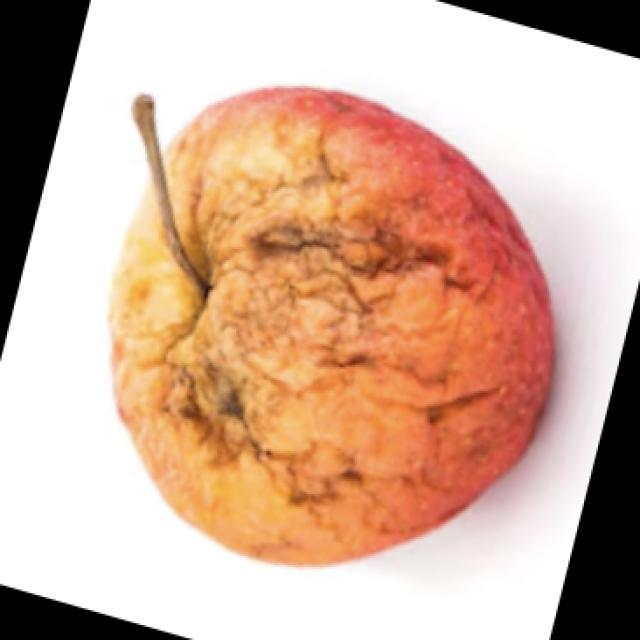Rotten: (130, 110, 540, 570)
